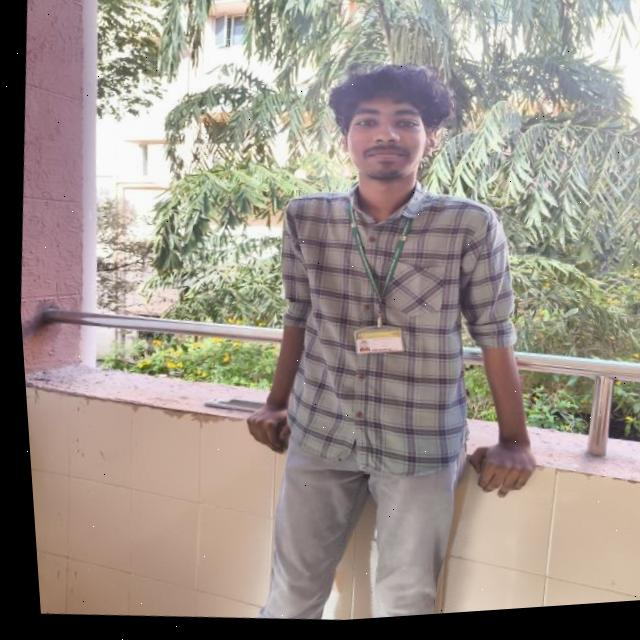id_card: (336, 202, 419, 367)
